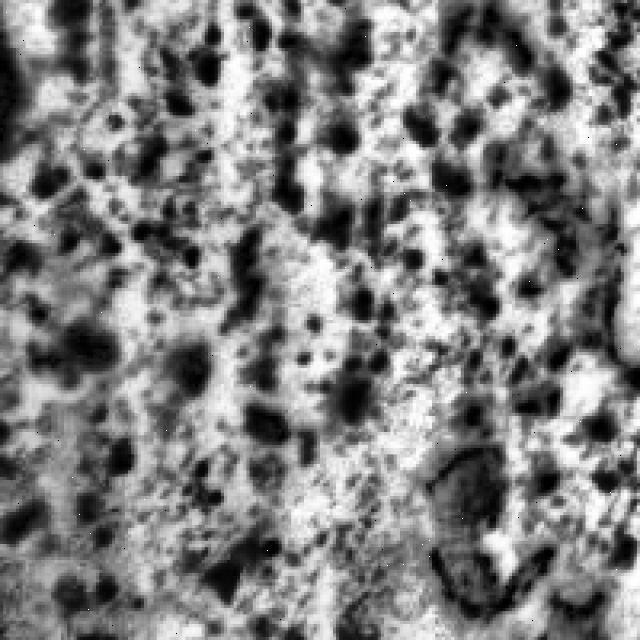Rolled_in_Scale: (3, 0, 579, 406), (6, 220, 397, 602)
Scratches: (419, 432, 560, 630), (512, 157, 637, 368)
